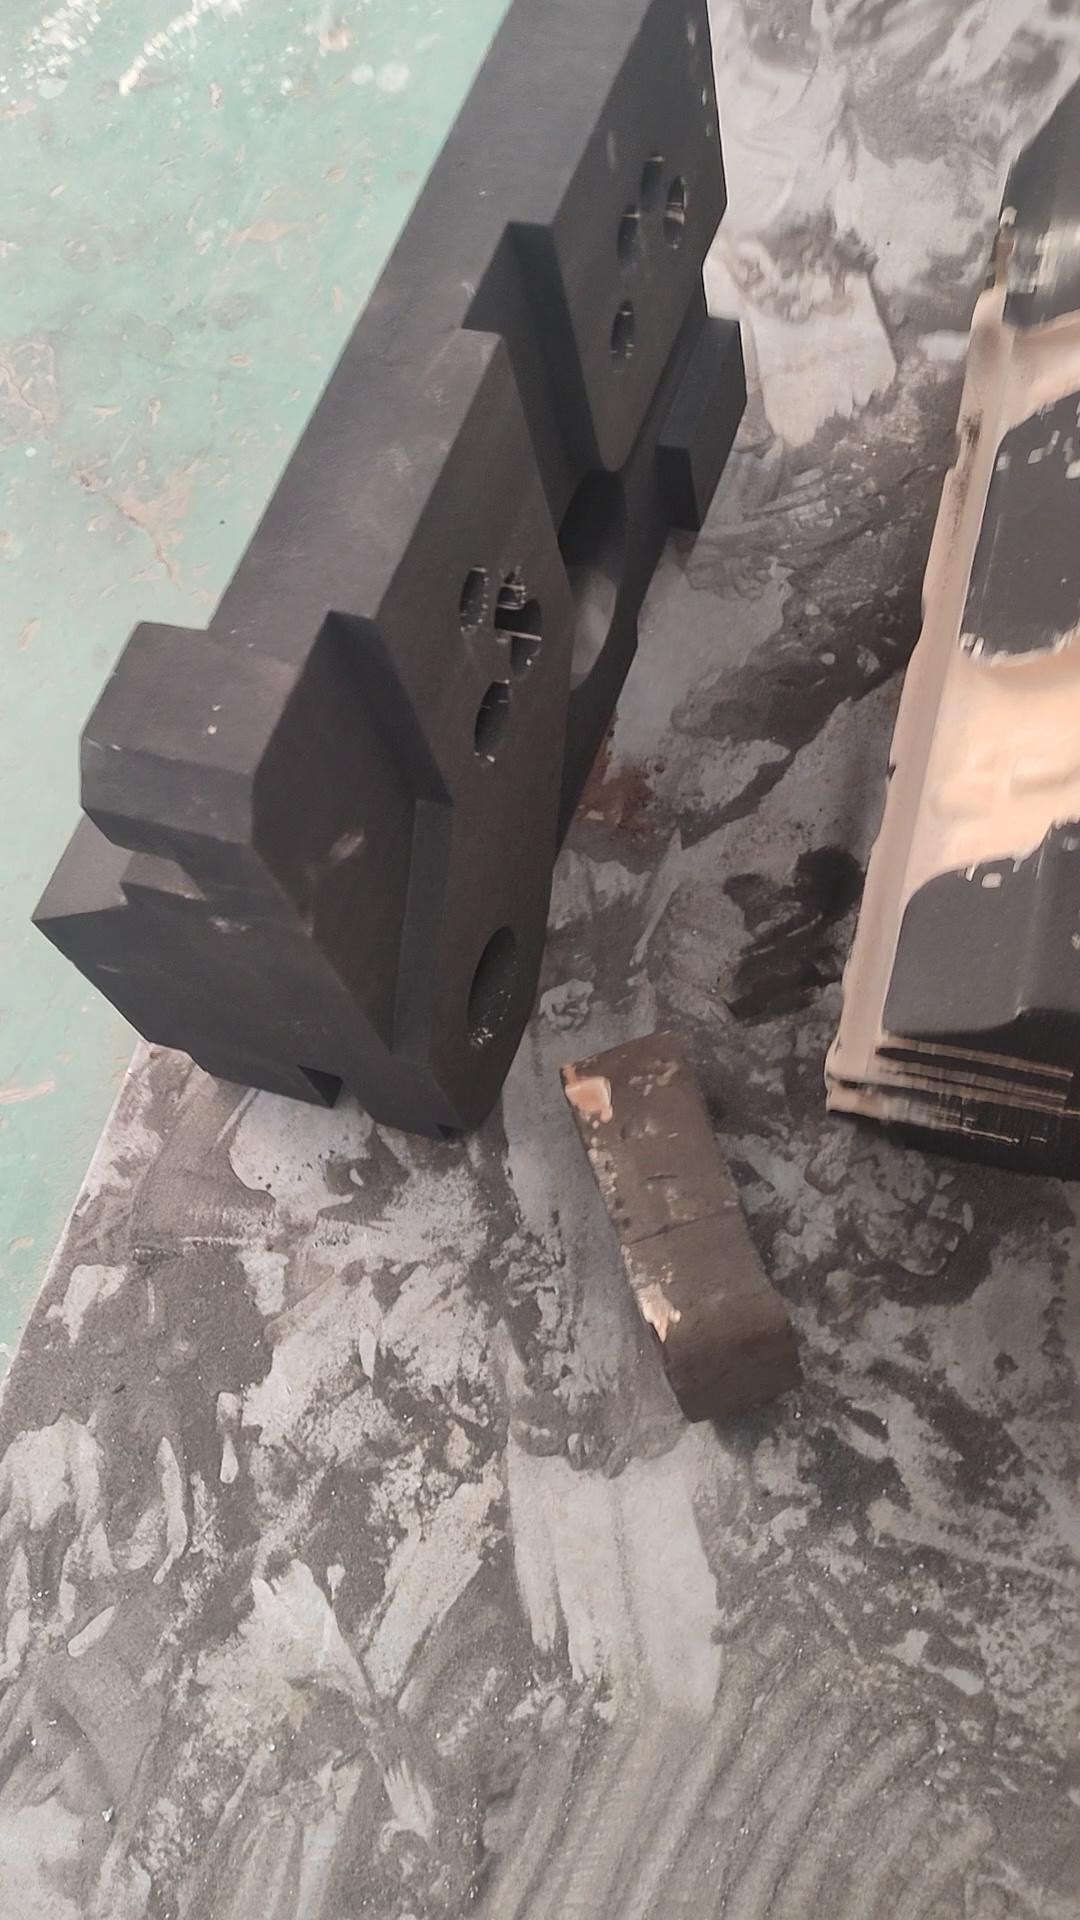pouring hole: (468, 924, 520, 1038)
